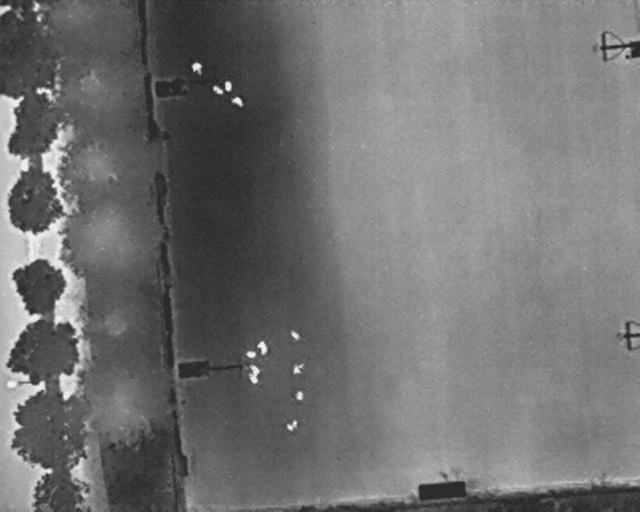Person: (254, 339, 271, 359), (228, 92, 247, 109), (246, 371, 262, 387), (209, 82, 225, 97), (191, 59, 204, 77), (287, 327, 302, 342), (249, 362, 262, 376), (285, 419, 298, 432), (292, 361, 304, 375), (294, 391, 304, 401), (225, 81, 233, 93), (245, 351, 258, 358)
